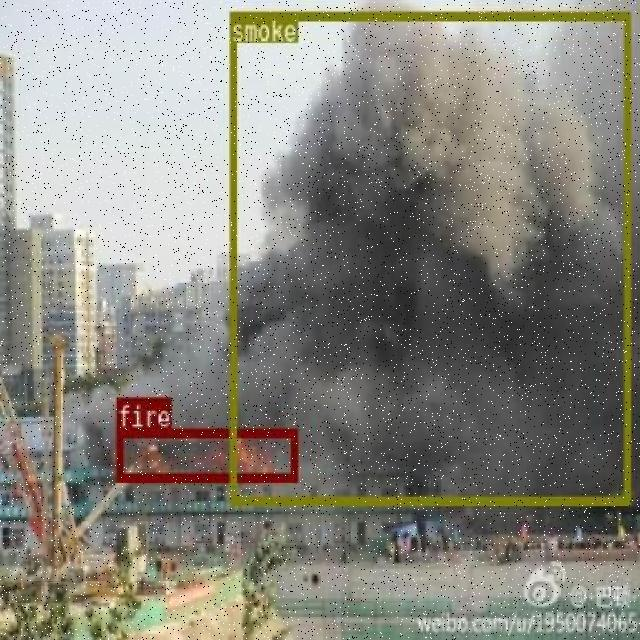Smoke: (231, 10, 627, 504)
